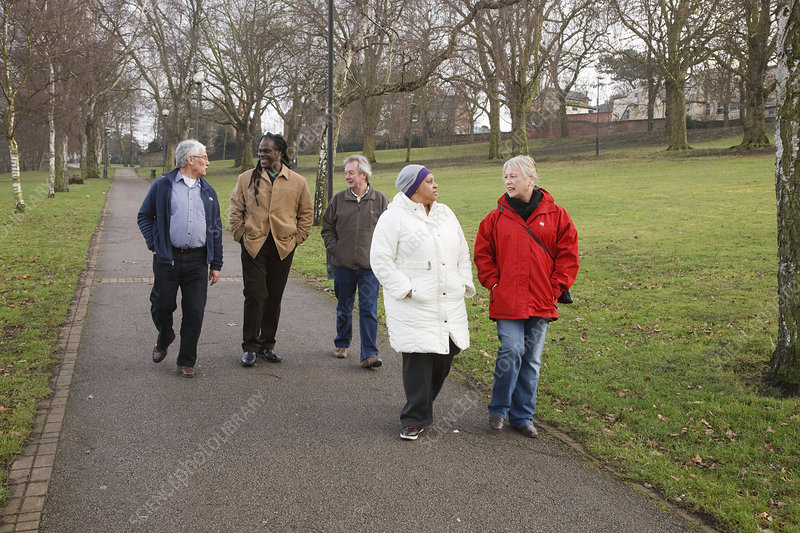person: (470, 147, 581, 442), (366, 159, 478, 446), (224, 129, 320, 372), (135, 133, 226, 383), (319, 151, 394, 370)
